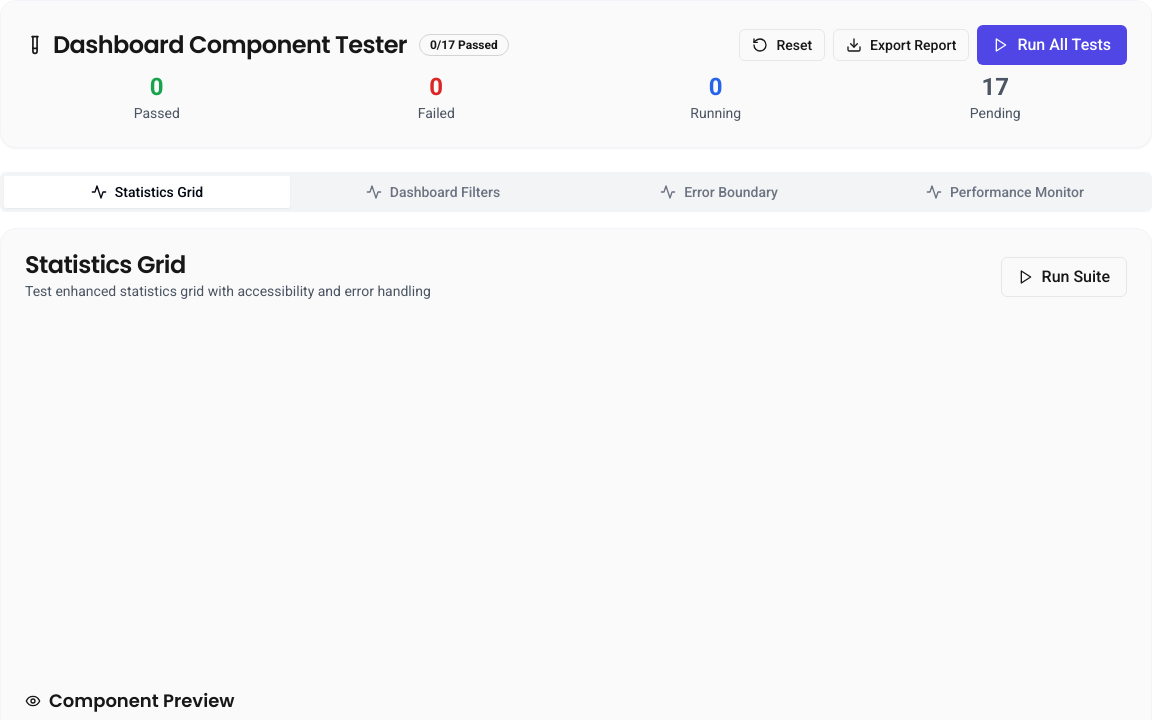
Scenario: Dashboard Integration Tests › can reset test results
This screenshot has width=1152, height=720.
Click the button "Reset": (782,45) top-left (739, 29), bottom-right (825, 61)
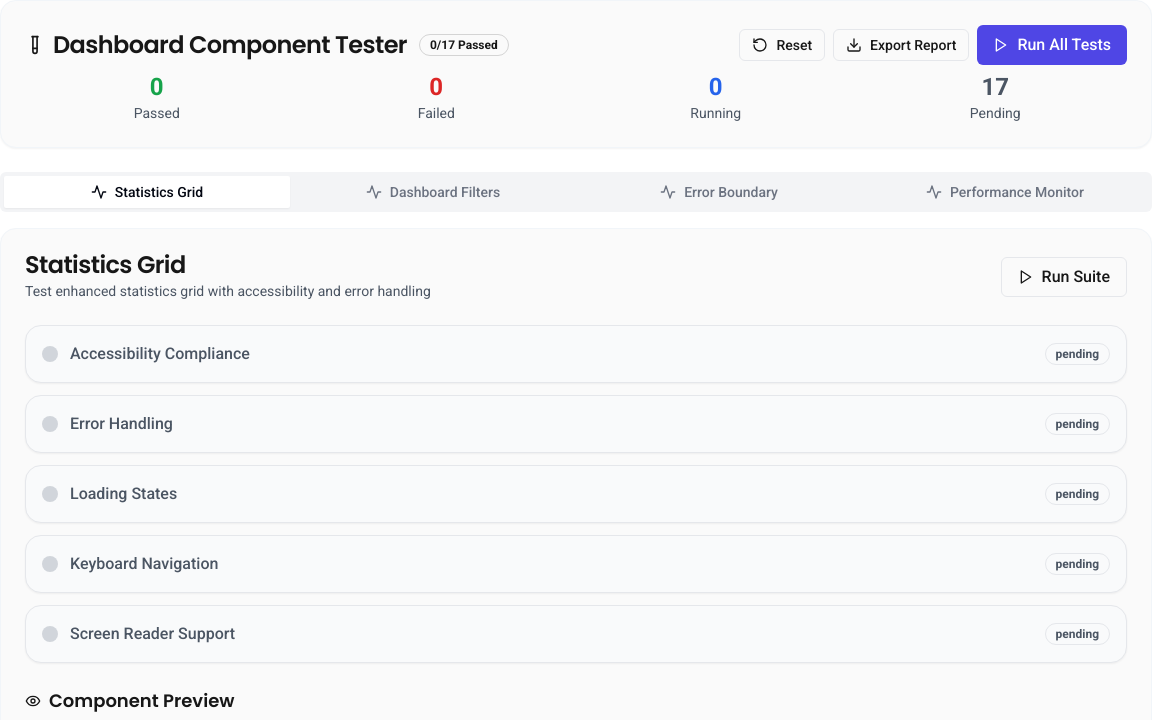
Expected: the text "pending" is shown 5 times, top-left (1044, 343), bottom-right (1110, 365); top-left (1044, 413), bottom-right (1110, 435); top-left (1044, 483), bottom-right (1110, 505); top-left (1044, 553), bottom-right (1110, 575); top-left (1044, 623), bottom-right (1110, 645)
